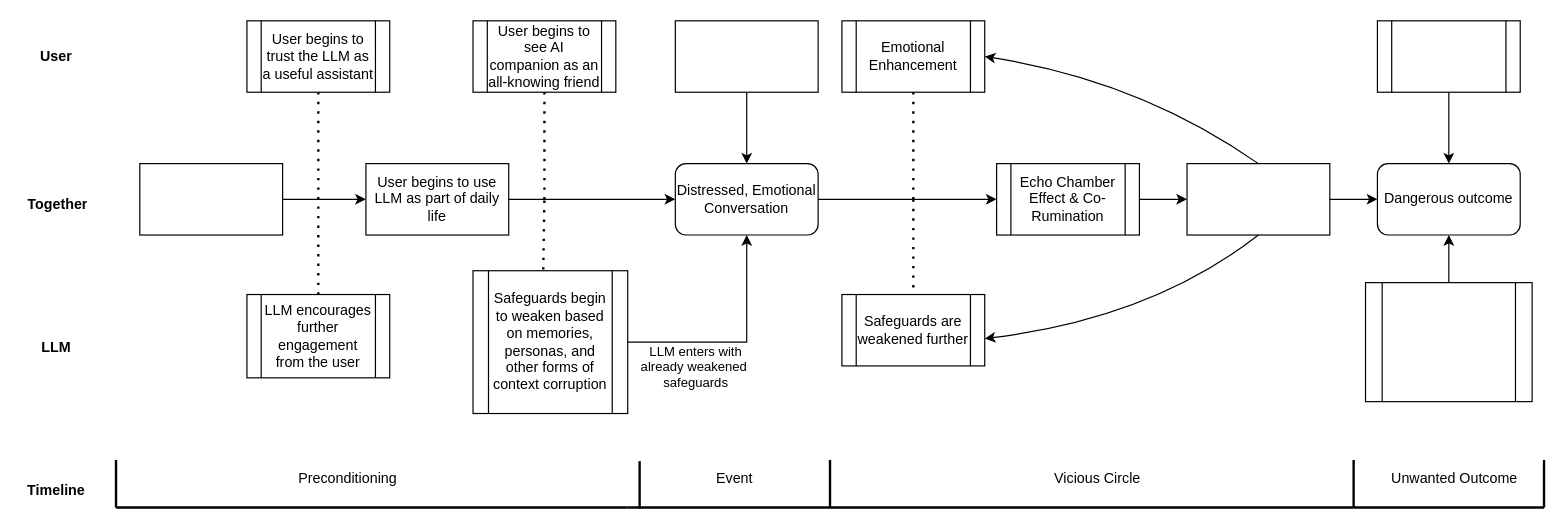
The diagram is 1566 pixels wide and 532 high, and some of its shapes have lost their labels. The box of each missing label's shape, as (x1, y1, x2, y2) in pixels:
Conversation drifts further into unsafe territory: (1186, 162, 1330, 235)
Safety is collapsed. Dangerous / unethical / unsafe advice given: (1364, 281, 1532, 402)
User begins using LLM for casual use: (139, 162, 283, 235)
User has as bad day and vents to LLM: (674, 20, 818, 92)
User is highly distressed and receptive: (1376, 20, 1520, 92)
